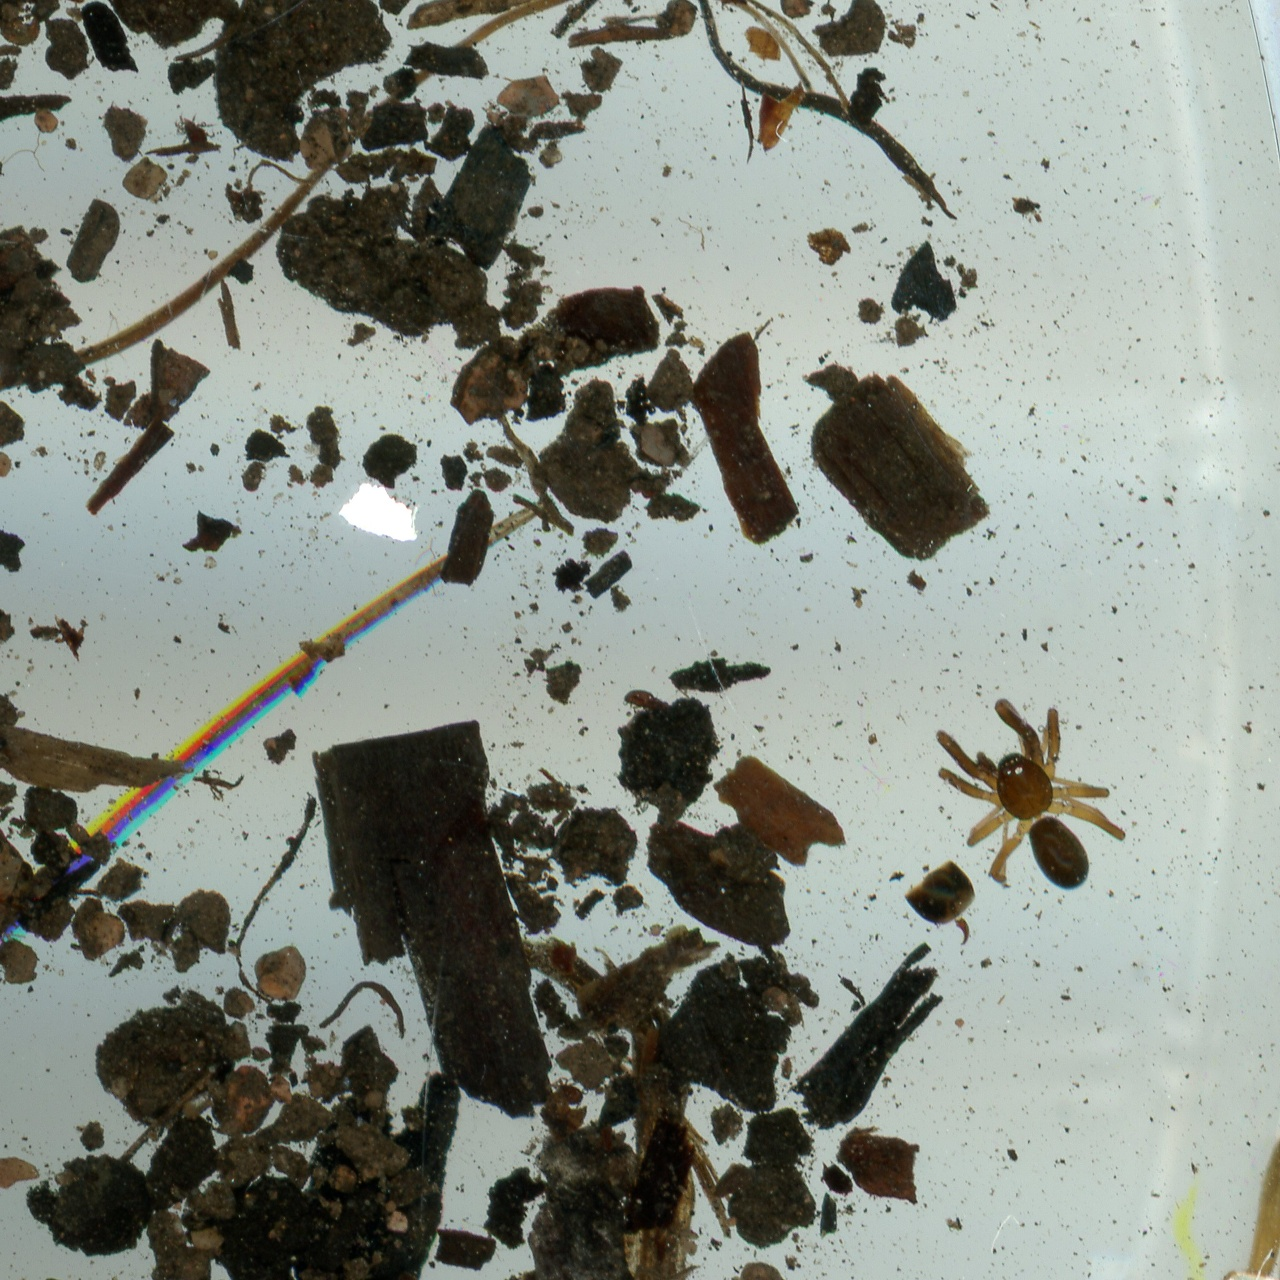arthropod: (927, 693, 1130, 893), (0, 838, 108, 993), (169, 108, 218, 157), (619, 685, 674, 722), (551, 1071, 592, 1110)
